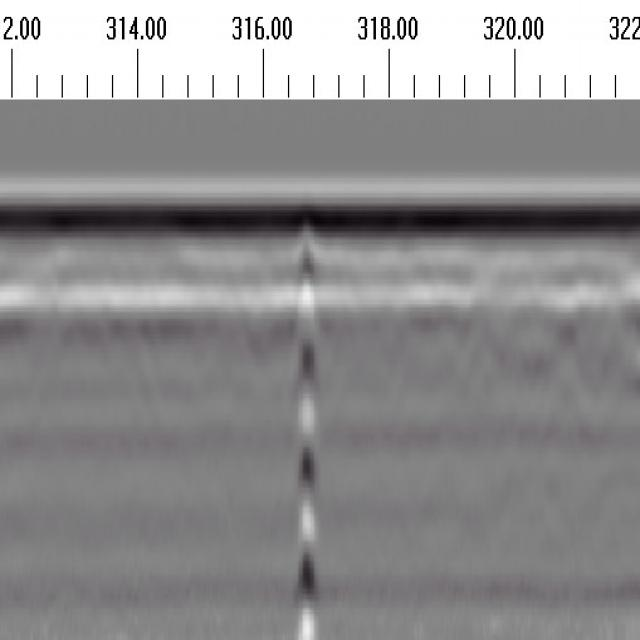crack: (291, 221, 321, 639)
